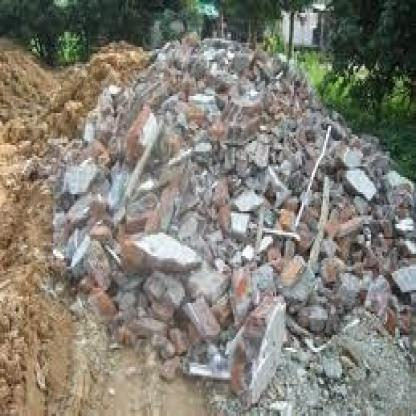brick: (49, 31, 414, 414)
